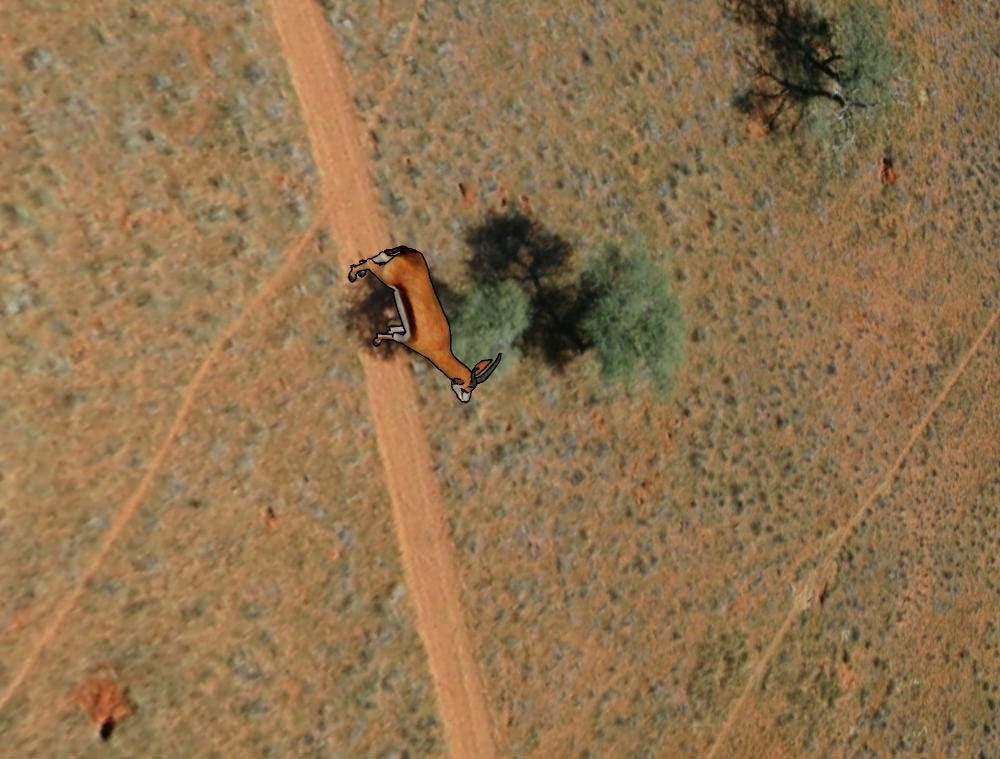springbok: (338, 243, 500, 408)
